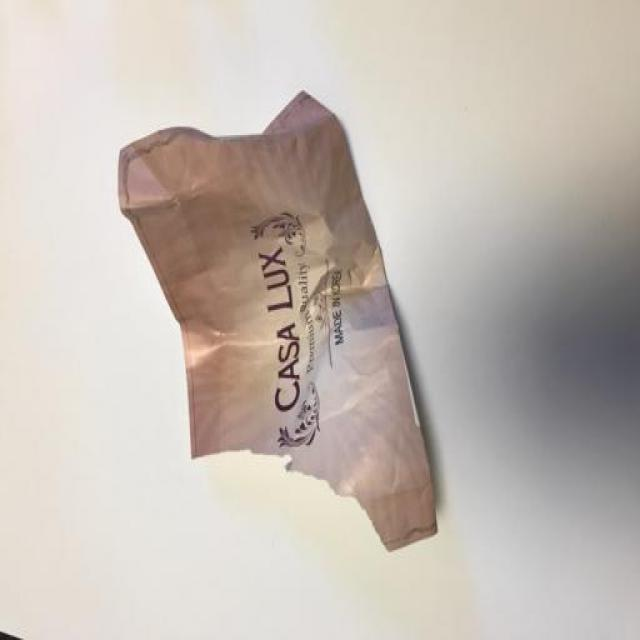paper: (116, 77, 526, 640)
